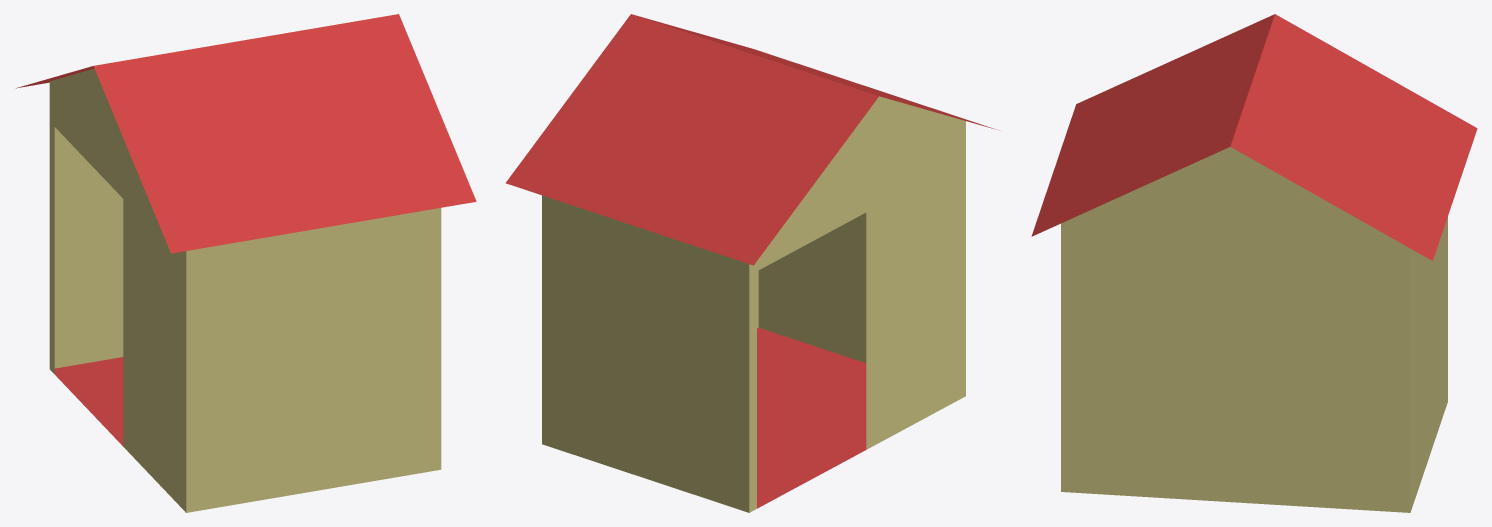
3 renders of one model, left to right at view 1: azimuth 30°, elevation 25°; view 2: azimuth 150°, elevation 25°; view 3: azimuth 270°, elevation 25°, orthographic. The views are drawn at different scales.
Visible parts, largest first — view 1: group_5, group_3, group_4, group_6; view 2: group_5, group_3, group_6, group_4; view 3: group_5, group_3, group_4.
Boxes of the visible parts, x1,y1,x2,y2 form: group_5: (49, 68, 441, 512); group_3: (16, 14, 476, 252); group_4: (32, 61, 475, 253); group_6: (54, 357, 123, 446); group_5: (542, 96, 965, 512); group_3: (505, 14, 960, 265); group_6: (757, 327, 866, 508); group_4: (557, 14, 999, 265); group_5: (1061, 147, 1447, 512); group_3: (1031, 14, 1476, 260); group_4: (1032, 14, 1477, 235).
Bounding box in the file's own units: 10.59 × 12.72 × 11.53.
